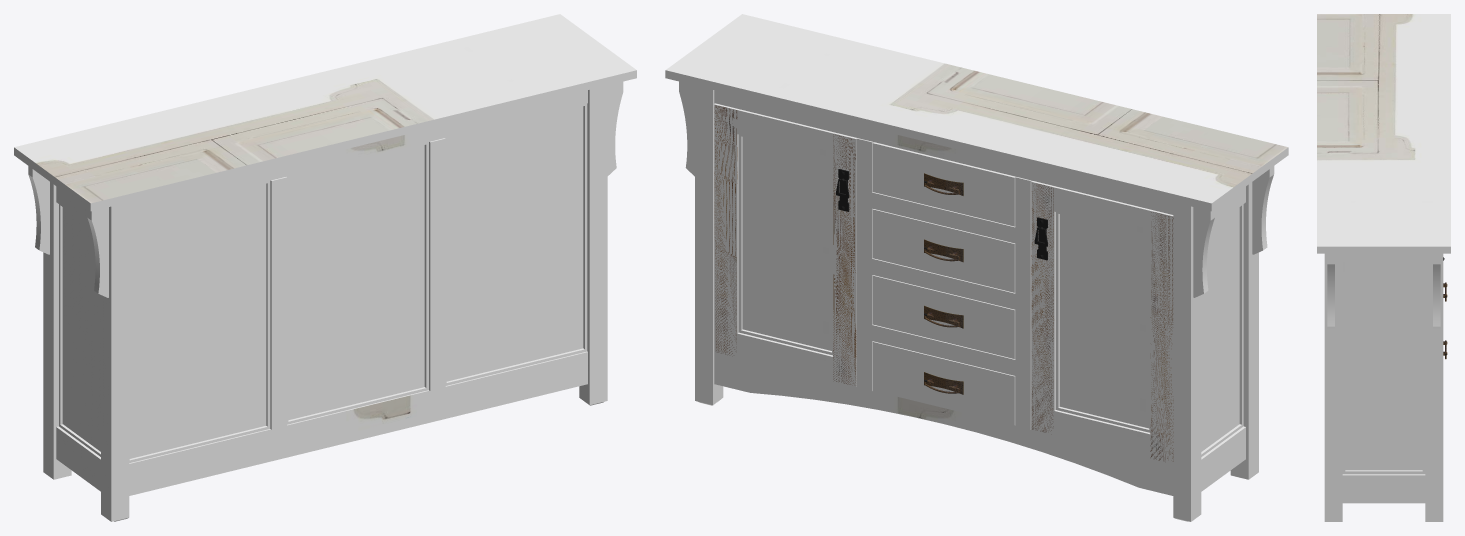
3 views of the same model, side by side, from view 1: azimuth 30°, elevation 25°; view 2: azimuth 150°, elevation 25°; view 3: azimuth 270°, elevation 25° (orthographic). The views are drawn at different scales.
Visible parts, largest first — view 1: mesh85_mesh85-geometry, mesh25_mesh25-geometry, mesh47_mesh47-geometry, mesh57_mesh57-geometry, mesh23_mesh23-geometry, mesh79_mesh79-geometry, mesh21_mesh21-geometry, mesh31_mesh31-geometry, mesh18_mesh18-geometry, mesh81_mesh81-geometry, mesh41_mesh41-geometry, mesh37_mesh37-geometry (+3 smaller); view 2: mesh25_mesh25-geometry, mesh3_mesh3-geometry, mesh61_mesh61-geometry, mesh1_mesh1-geometry, mesh43_mesh43-geometry, mesh49_mesh49-geometry, mesh18_mesh18-geometry, mesh79_mesh79-geometry, mesh60_mesh60-geometry, mesh15_mesh15-geometry, mesh27_mesh27-geometry, mesh7_mesh7-geometry (+9 smaller); view 3: mesh25_mesh25-geometry, mesh79_mesh79-geometry, mesh15_mesh15-geometry, mesh21_mesh21-geometry, mesh37_mesh37-geometry, mesh33_mesh33-geometry, mesh75_mesh75-geometry, mesh39_mesh39-geometry, mesh77_mesh77-geometry.
Boxes of the visible parts, x1,y1,x2,y2 form: mesh85_mesh85-geometry: (129,106,583,458); mesh25_mesh25-geometry: (14,14,636,211); mesh47_mesh47-geometry: (129,351,587,495); mesh57_mesh57-geometry: (266,137,446,429); mesh23_mesh23-geometry: (101,202,129,521); mesh79_mesh79-geometry: (62,207,100,451); mesh21_mesh21-geometry: (579,85,607,405); mesh31_mesh31-geometry: (129,90,587,214); mesh18_mesh18-geometry: (43,182,71,479); mesh81_mesh81-geometry: (129,104,584,462); mesh41_mesh41-geometry: (28,166,108,297); mesh37_mesh37-geometry: (56,426,100,491); mesh25_mesh25-geometry: (665,14,1288,211); mesh3_mesh3-geometry: (742,137,1149,428); mesh61_mesh61-geometry: (872,142,1015,425); mesh1_mesh1-geometry: (714,103,1173,463); mesh43_mesh43-geometry: (714,352,1173,495); mesh49_mesh49-geometry: (856,138,1032,429); mesh18_mesh18-geometry: (1173,202,1201,521); mesh79_mesh79-geometry: (1201,207,1239,451); mesh60_mesh60-geometry: (872,192,1015,375); mesh15_mesh15-geometry: (695,85,723,405); mesh27_mesh27-geometry: (714,90,1173,214); mesh7_mesh7-geometry: (737,332,1150,458); mesh25_mesh25-geometry: (1317,14,1450,253); mesh79_mesh79-geometry: (1345,280,1422,470); mesh15_mesh15-geometry: (1425,253,1443,521); mesh21_mesh21-geometry: (1324,253,1342,521); mesh37_mesh37-geometry: (1342,474,1425,503); mesh33_mesh33-geometry: (1342,253,1425,279); mesh75_mesh75-geometry: (1342,279,1425,474); mesh39_mesh39-geometry: (1327,253,1440,328); mesh77_mesh77-geometry: (1345,279,1422,474).
Bounding box in the file's own units: 0.8479 × 0.4883 × 0.2064.
